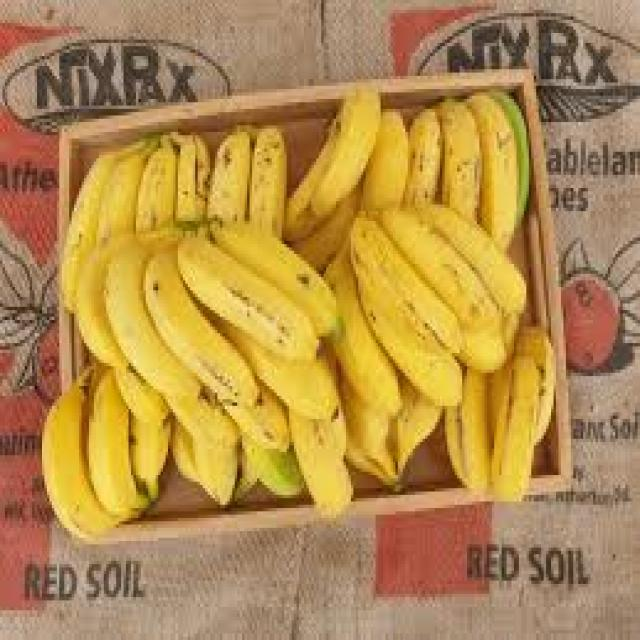Banana: (76, 215, 339, 448), (287, 90, 530, 264), (324, 206, 527, 414), (64, 132, 287, 308), (39, 371, 171, 541), (445, 321, 558, 498)
